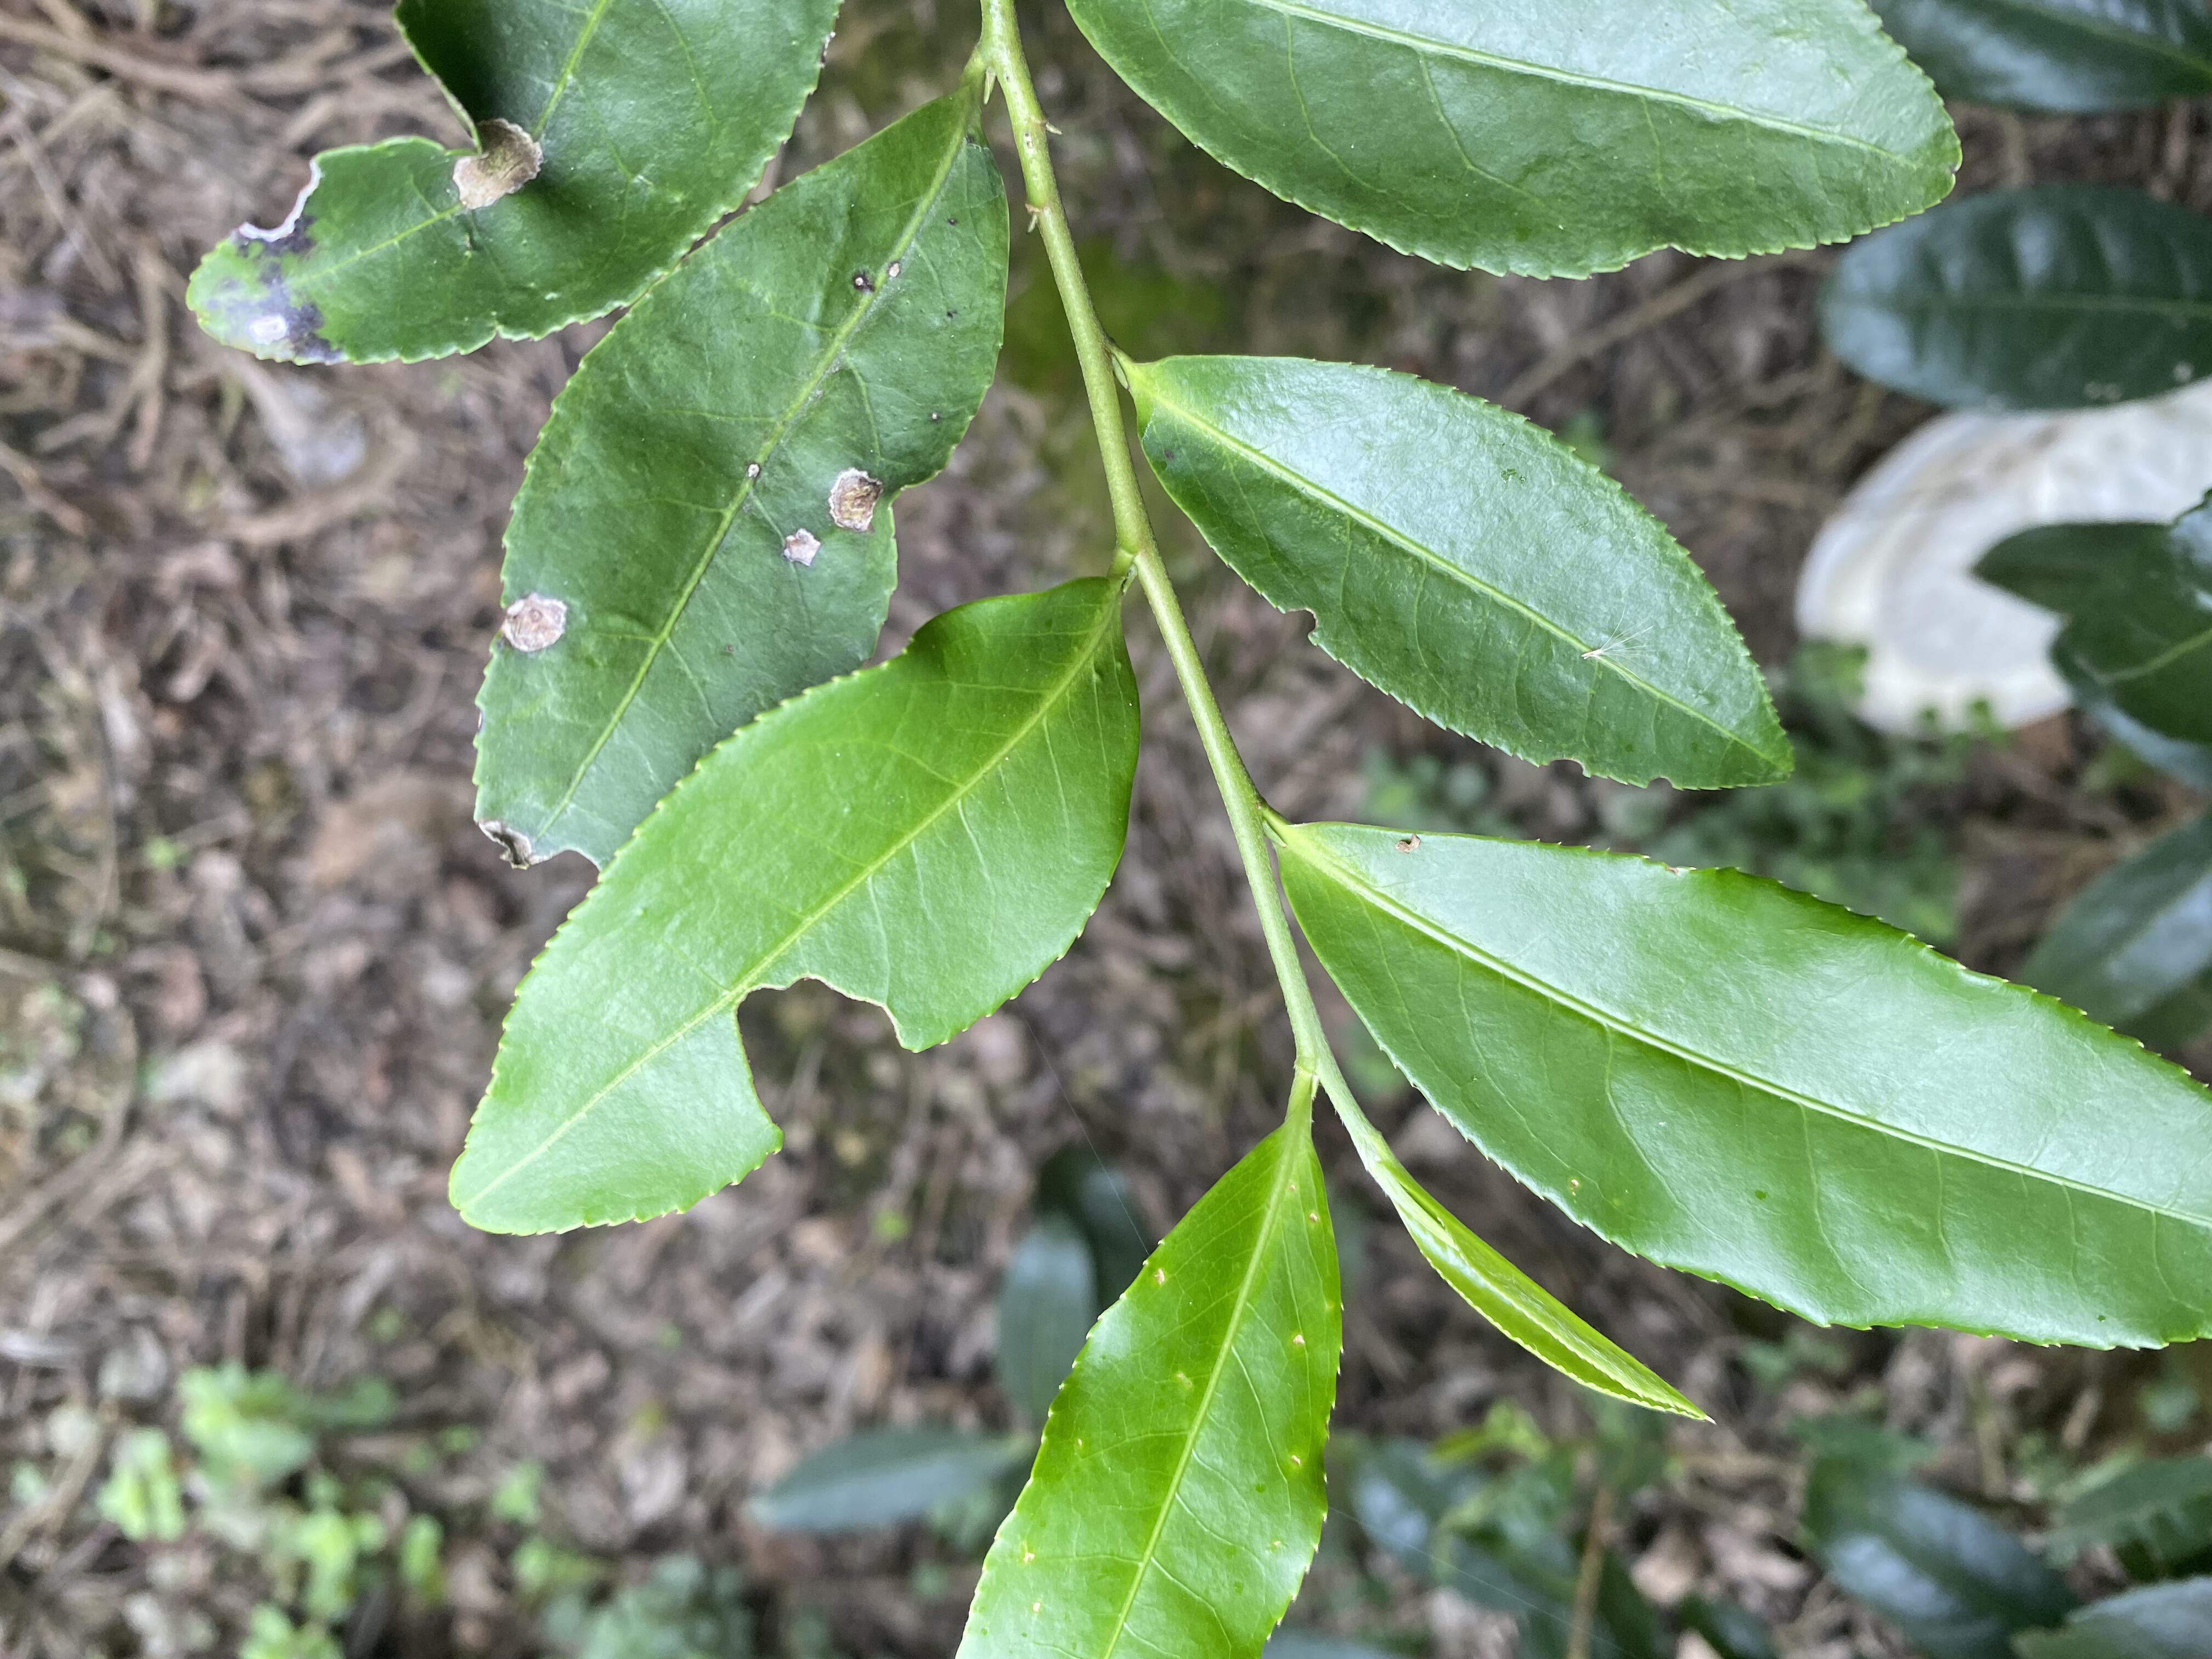chihuo_high: (1139, 352, 1797, 793)
chihuo_low: (449, 573, 1143, 1239)
healthy: (1287, 823, 2209, 1351), (1064, 2, 1965, 281), (946, 1122, 1345, 1657)
tanju_high: (469, 82, 1012, 861)
